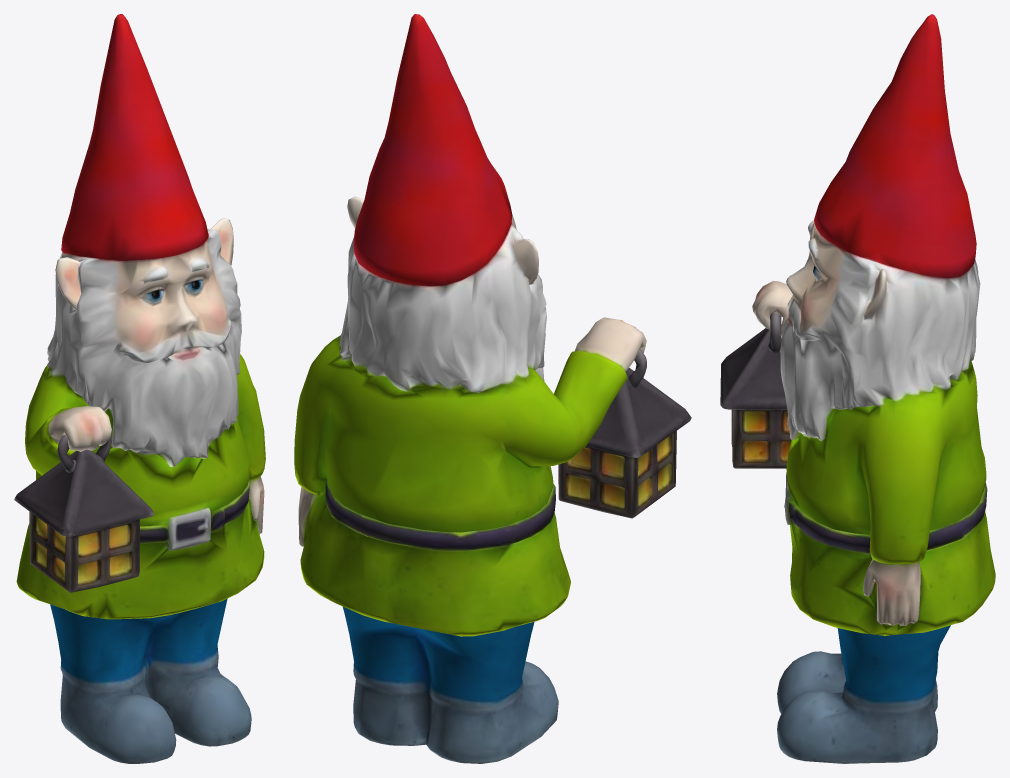
The model's file is garden_gnome.glb.
The picture shows the model from 3 angles, left to right: view 1: azimuth 30°, elevation 25°; view 2: azimuth 150°, elevation 25°; view 3: azimuth 270°, elevation 25°; orthographic projection. The views are drawn at different scales.
Parts seen in each view (by area): view 1: garden_gnome; view 2: garden_gnome; view 3: garden_gnome.
Part boxes in pixels (left/top/right/bottom): garden_gnome: left=14, top=14, right=265, bottom=763; garden_gnome: left=294, top=14, right=691, bottom=763; garden_gnome: left=720, top=14, right=995, bottom=763.
Bounding box in the file's own units: 0.2574 × 0.5989 × 0.2097.
1 material, 1 textured.
